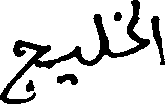ا: (150, 13, 163, 65)
ج: (0, 38, 52, 103)
ل: (113, 10, 149, 54), (91, 12, 109, 66), (124, 0, 147, 35)
ي: (56, 44, 79, 85)
